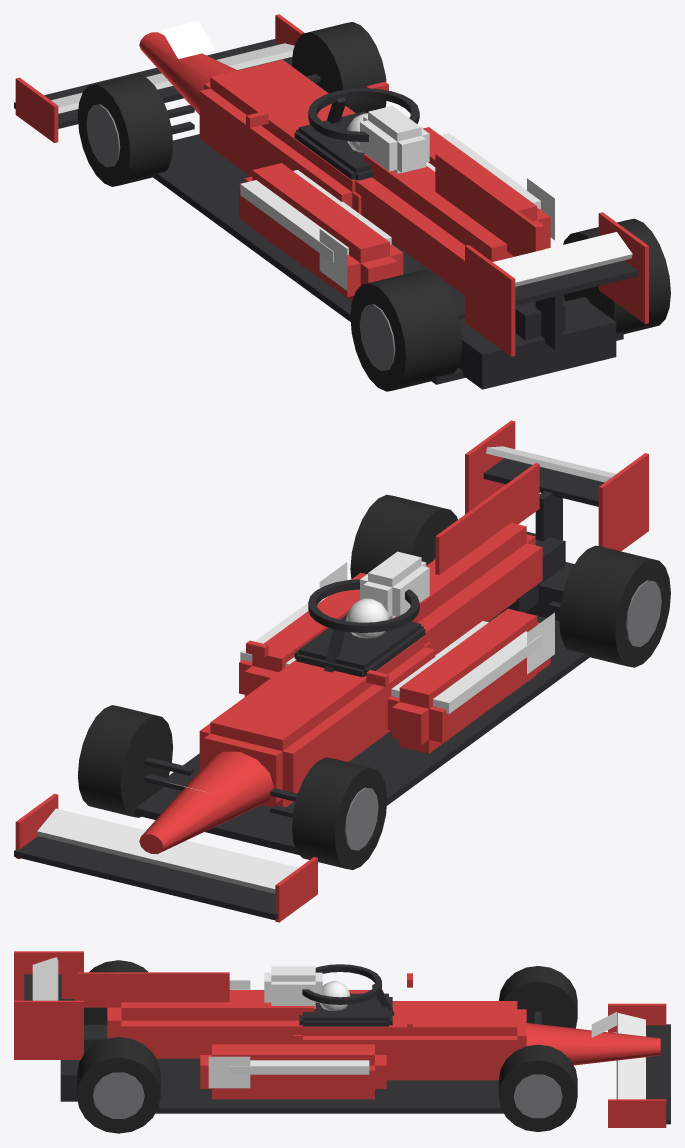
The model's file is f1car.glb.
The picture shows the model from 3 angles, top to bottom: view 1: azimuth 30°, elevation 25°; view 2: azimuth 150°, elevation 25°; view 3: azimuth 270°, elevation 25°; orthographic projection. The views are drawn at different scales.
Visible parts, largest first — view 1: body, wheel_RL, wheel_FL, wheel_FR, wheel_RR, number; view 2: body, wheel_RL, wheel_FL, wheel_FR, wheel_RR, number; view 3: body, wheel_RR, wheel_FR, wheel_FL, number, wheel_RL.
Boxes of the visible parts, x1,y1,x2,y2 form: body: [14, 14, 648, 389]; wheel_RL: [350, 269, 462, 391]; wheel_FL: [78, 74, 172, 186]; wheel_FR: [292, 22, 386, 113]; wheel_RR: [563, 218, 670, 334]; number: [161, 20, 554, 290]; body: [14, 420, 648, 922]; wheel_RL: [559, 545, 670, 667]; wheel_FL: [292, 757, 387, 869]; wheel_FR: [78, 705, 172, 817]; wheel_RR: [350, 494, 457, 578]; number: [170, 562, 554, 792]; body: [14, 951, 670, 1127]; wheel_RR: [77, 1037, 160, 1133]; wheel_FR: [498, 1044, 577, 1131]; wheel_FL: [498, 966, 577, 1028]; number: [208, 980, 617, 1088]; wheel_RL: [84, 960, 148, 1024].
Bounding box in the file's own units: 2 × 1.08 × 5.64.
